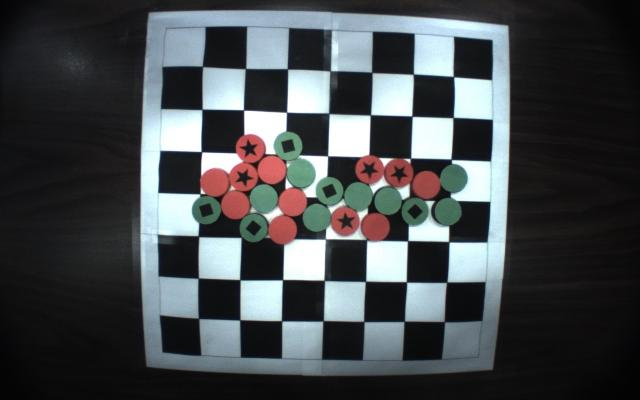G: (272, 130, 305, 164), (190, 193, 223, 226), (312, 174, 345, 207), (238, 210, 270, 244), (400, 195, 431, 228)
R: (233, 132, 269, 165), (330, 204, 362, 238), (354, 152, 384, 188), (384, 155, 415, 189), (229, 161, 259, 193)
g: (285, 155, 318, 189), (431, 196, 463, 228), (250, 182, 280, 216), (301, 202, 333, 233), (438, 163, 469, 194), (344, 180, 374, 212), (374, 185, 404, 216)
r: (197, 165, 231, 198), (219, 187, 252, 221), (276, 185, 310, 218), (256, 152, 287, 186), (361, 210, 392, 244), (268, 214, 299, 247), (412, 169, 442, 201)
